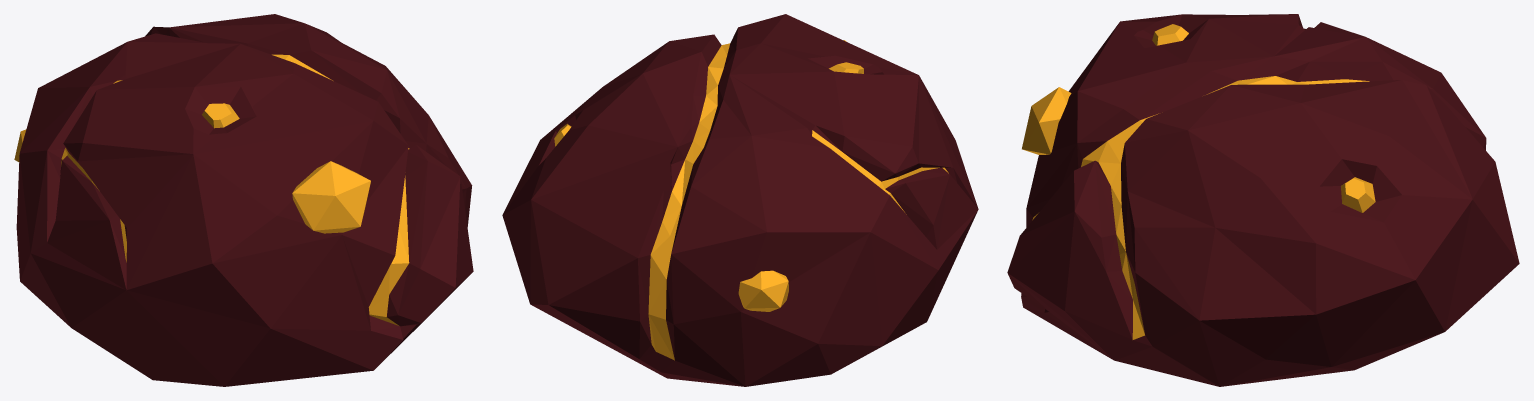
File: goldenOre2-2.fbx
The picture shows the model from 3 angles, left to right: view 1: azimuth 30°, elevation 25°; view 2: azimuth 150°, elevation 25°; view 3: azimuth 270°, elevation 25°; orthographic projection. The views are drawn at different scales.
Parts seen in each view (by area): view 1: Cube.001; view 2: Cube.001; view 3: Cube.001.
Part boxes in pixels (bbox=[...]): Cube.001: bbox=[14, 14, 473, 386]; Cube.001: bbox=[502, 14, 978, 386]; Cube.001: bbox=[1007, 14, 1519, 386].
Bounding box in the file's own units: 201 × 138 × 213.
